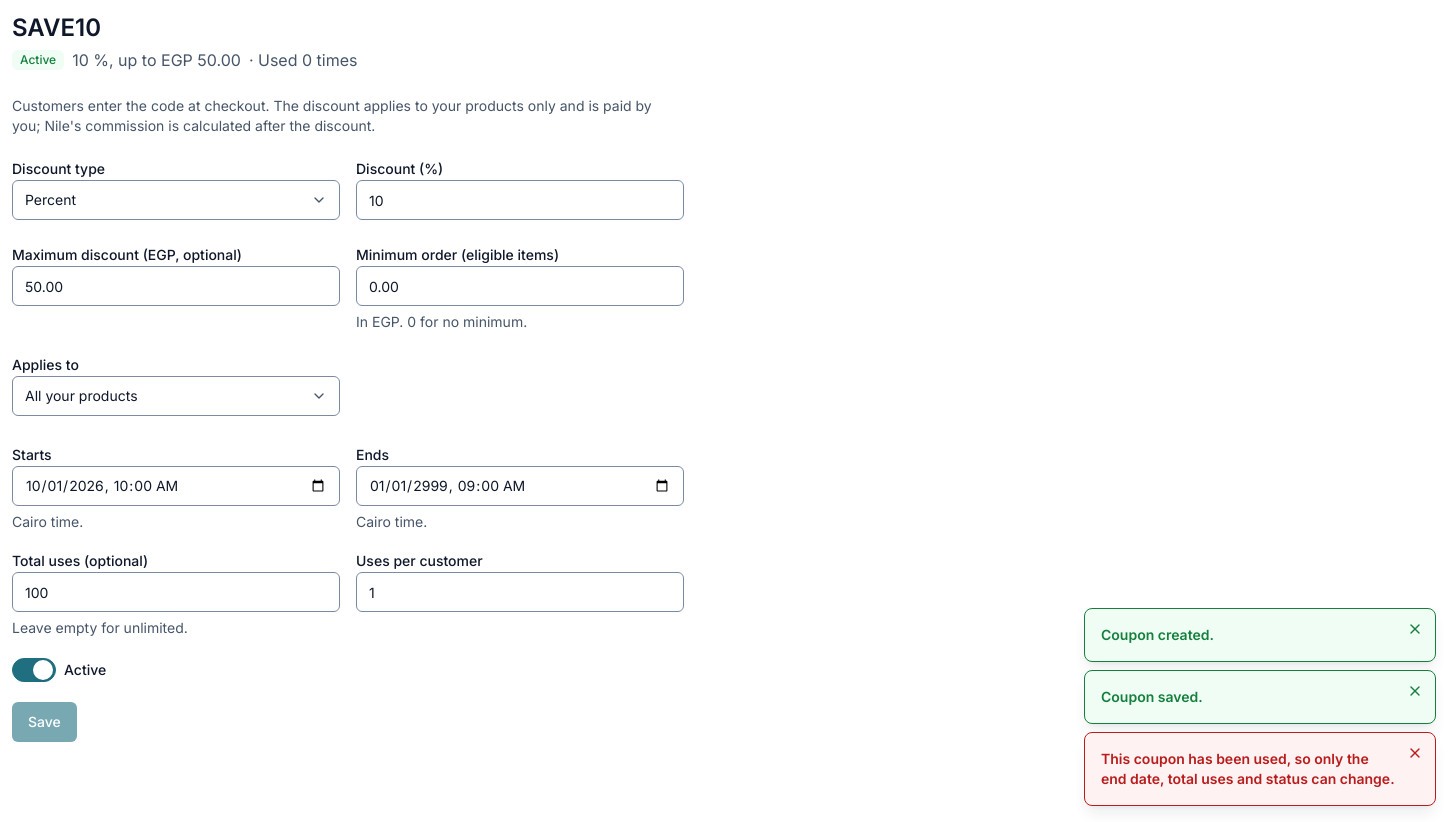
Test case: coupon page (spec 02 SE-23) › COUPON_INVALID: the named fields get their message
The width and height of the screenshot is (1452, 822).
Replace the text in the number field labelled "Uses per customer" with "2": point(520, 592) [356,572,684,612]
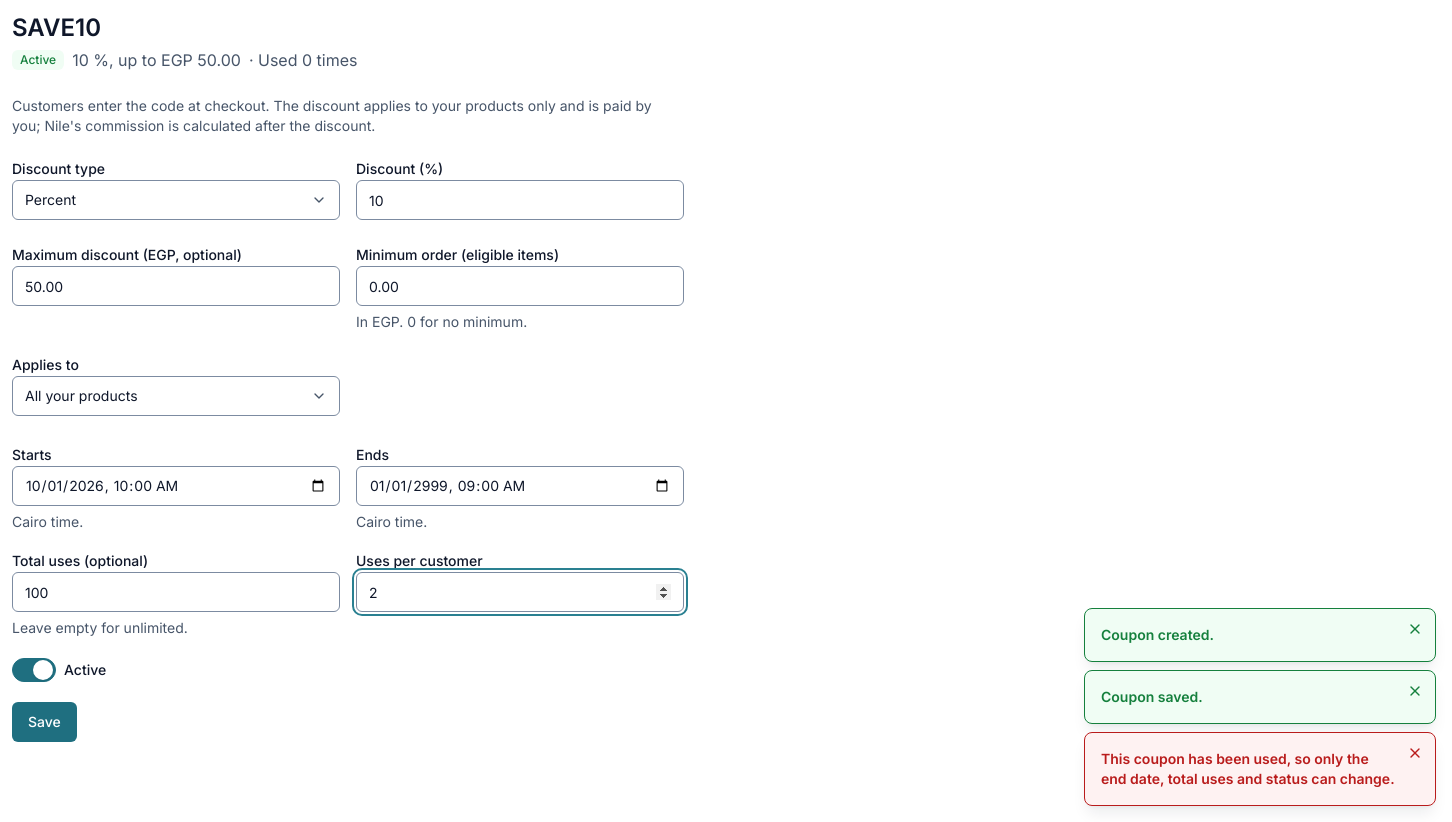
Expected: the button "Save" is enabled
Click the button "Save": point(44, 722) [12,702,77,742]
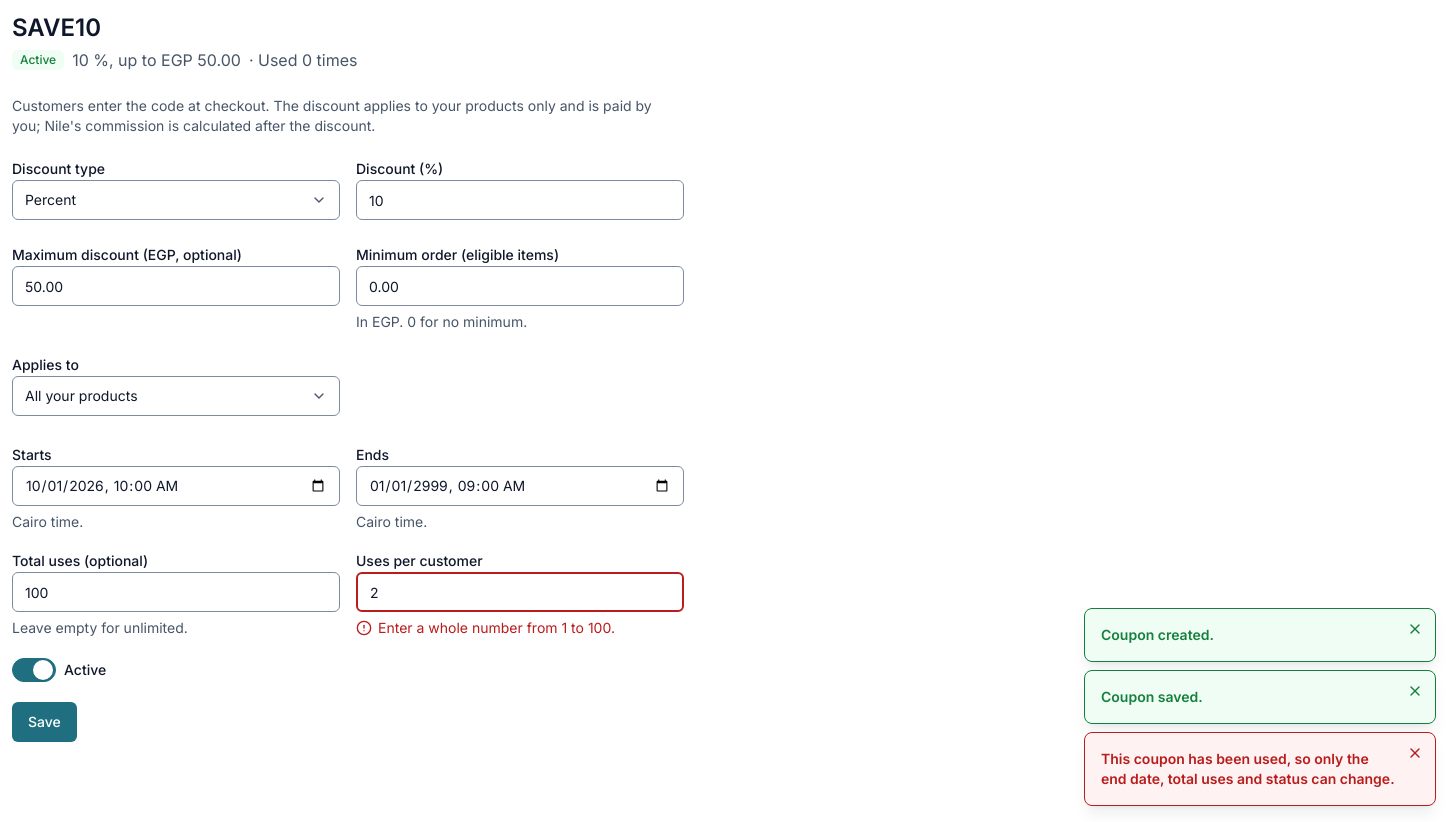
Expected: the text "Enter a whole number from 1 to 100." is shown, [356,619,615,636]
